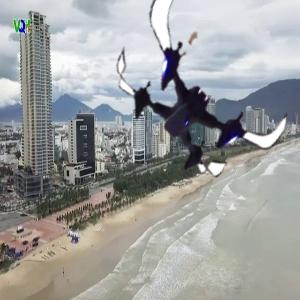drone: (106, 6, 295, 195)
